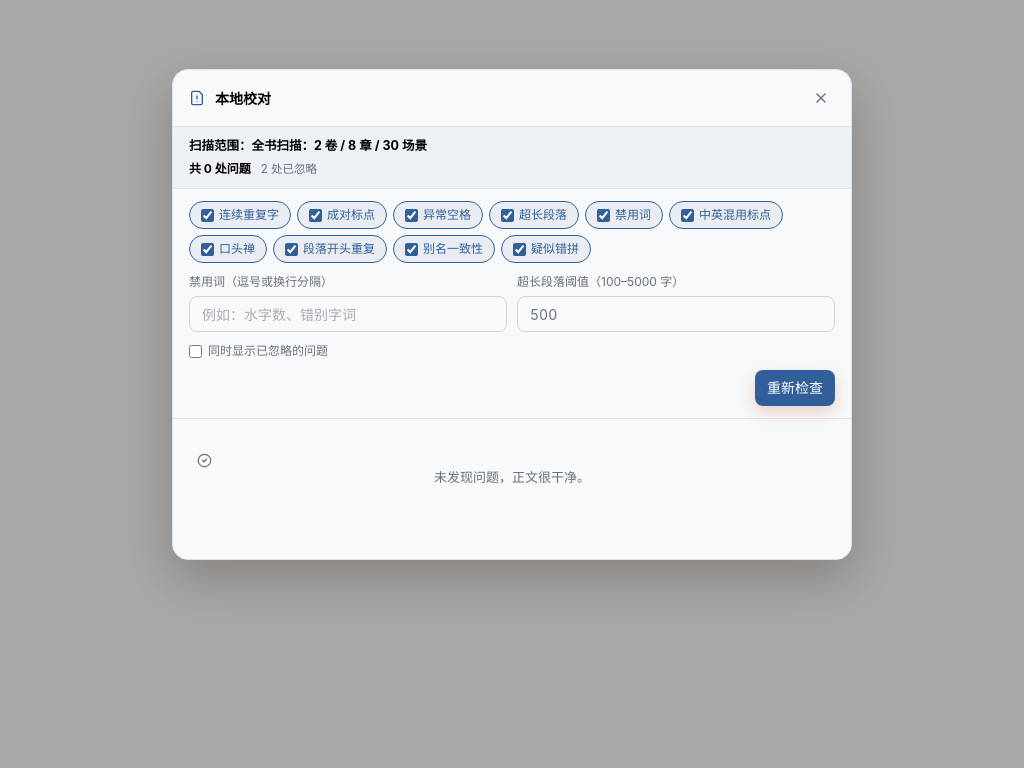
Test case: ProofPanel 按位置忽略 › 勾选显示已忽略后重新扫描并展示已忽略分组
Click the checkbox labelled "同时显示已忽略的问题": (196, 351) top-left (189, 345), bottom-right (202, 358)
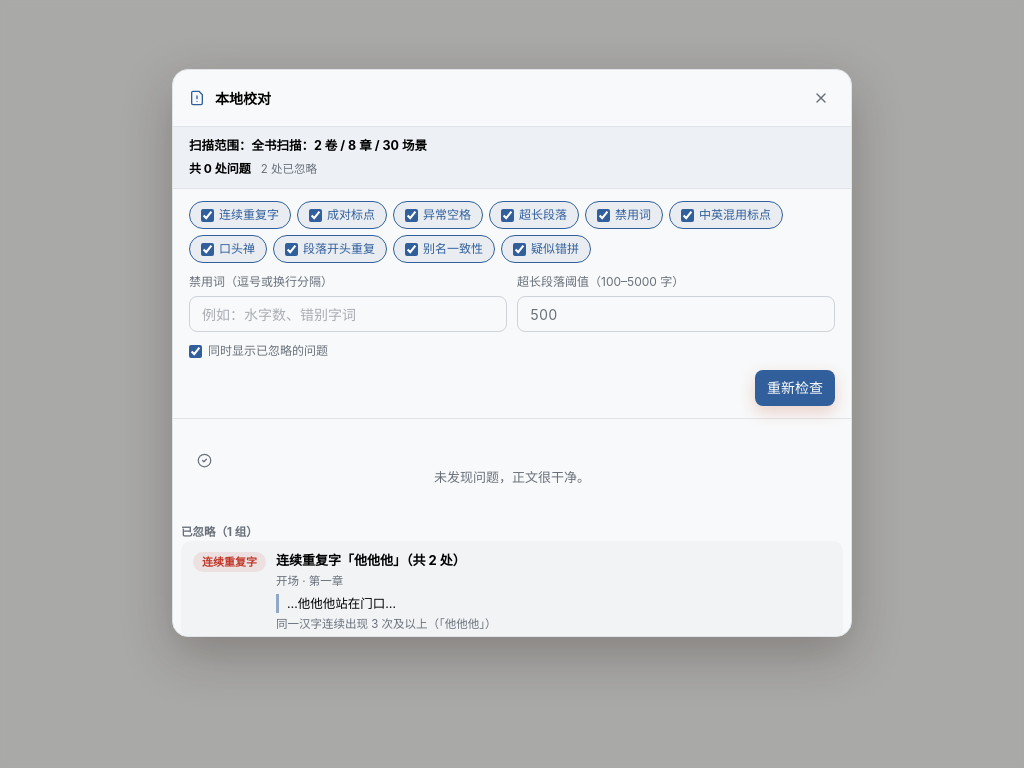
expect the text "已忽略（1 组）" is shown: met, box top-left (181, 525), bottom-right (258, 539)
